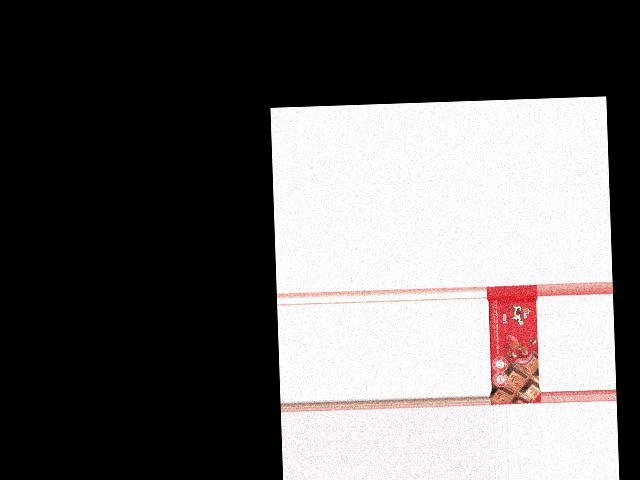chocolate: (486, 284, 540, 403)
